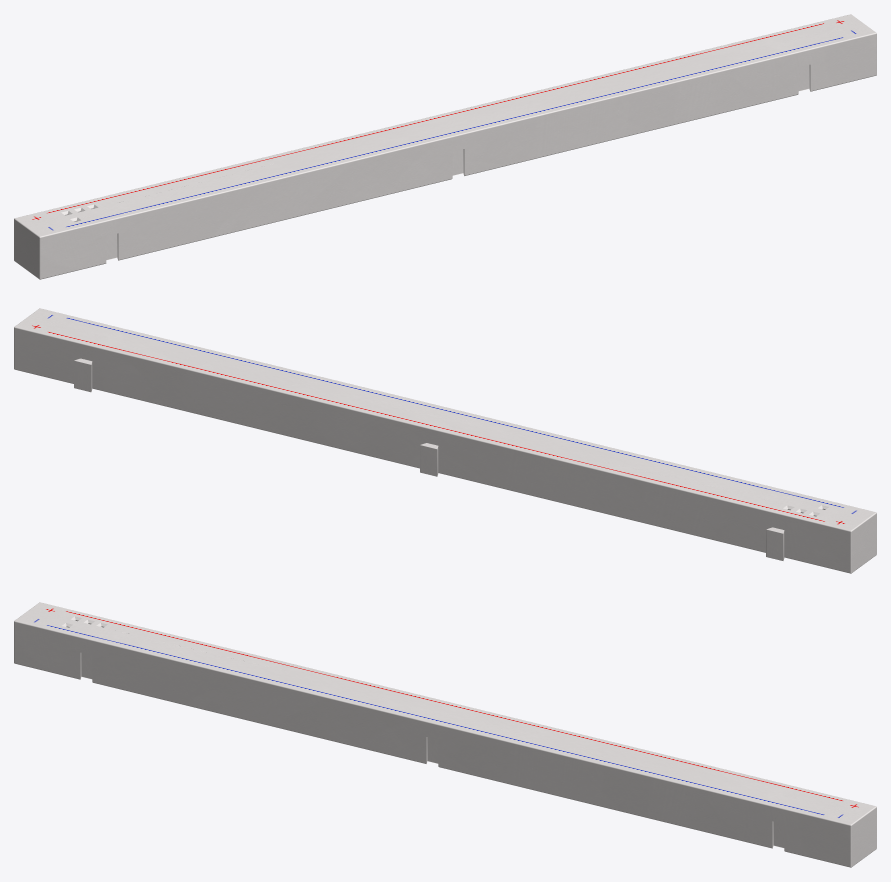
The model's file is Breadboard830tie_side.fbx.
The picture shows the model from 3 angles, top to bottom: view 1: azimuth 30°, elevation 25°; view 2: azimuth 150°, elevation 25°; view 3: azimuth 330°, elevation 25°; orthographic projection.
Visible parts, largest first — view 1: 830tie_side; view 2: 830tie_side; view 3: 830tie_side.
Boxes of the visible parts, x1,y1,x2,y2 form: 830tie_side: [14, 14, 876, 279]; 830tie_side: [14, 308, 876, 573]; 830tie_side: [14, 602, 876, 867].
Bounding box in the file's own units: 16.3 × 0.8002 × 1.01.
1 material, 1 textured.
